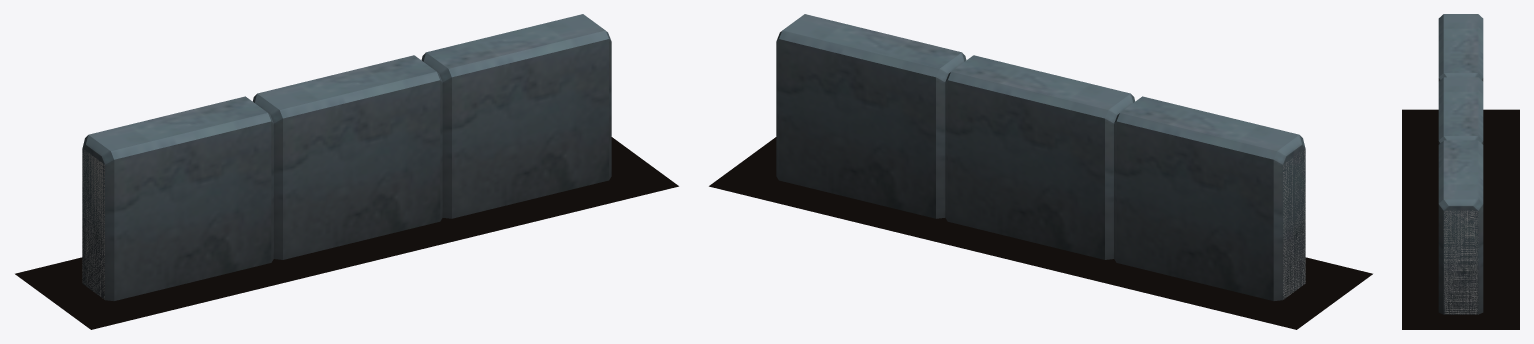
Rendered from 3x1_stone_wall.FBX.
The picture shows the model from 3 angles, left to right: view 1: azimuth 30°, elevation 25°; view 2: azimuth 150°, elevation 25°; view 3: azimuth 270°, elevation 25°; orthographic projection. The views are drawn at different scales.
Visible parts, largest first — view 1: 3x1_stone_wall, 3x1_stone_wall_soft_shadow, 3x1_stone_wall_shadow_caster; view 2: 3x1_stone_wall, 3x1_stone_wall_soft_shadow, 3x1_stone_wall_shadow_caster; view 3: 3x1_stone_wall_soft_shadow, 3x1_stone_wall, 3x1_stone_wall_shadow_caster.
Part boxes in pixels (x1,y1,x2,y2): 3x1_stone_wall: [82, 14, 611, 300]; 3x1_stone_wall_soft_shadow: [15, 137, 678, 329]; 3x1_stone_wall_shadow_caster: [82, 150, 104, 299]; 3x1_stone_wall: [776, 14, 1305, 300]; 3x1_stone_wall_soft_shadow: [709, 137, 1372, 329]; 3x1_stone_wall_shadow_caster: [1283, 150, 1305, 298]; 3x1_stone_wall_soft_shadow: [1402, 109, 1519, 329]; 3x1_stone_wall: [1438, 14, 1483, 314]; 3x1_stone_wall_shadow_caster: [1443, 210, 1478, 314].
Bounding box in the file's own units: 3485 × 850 × 787.
